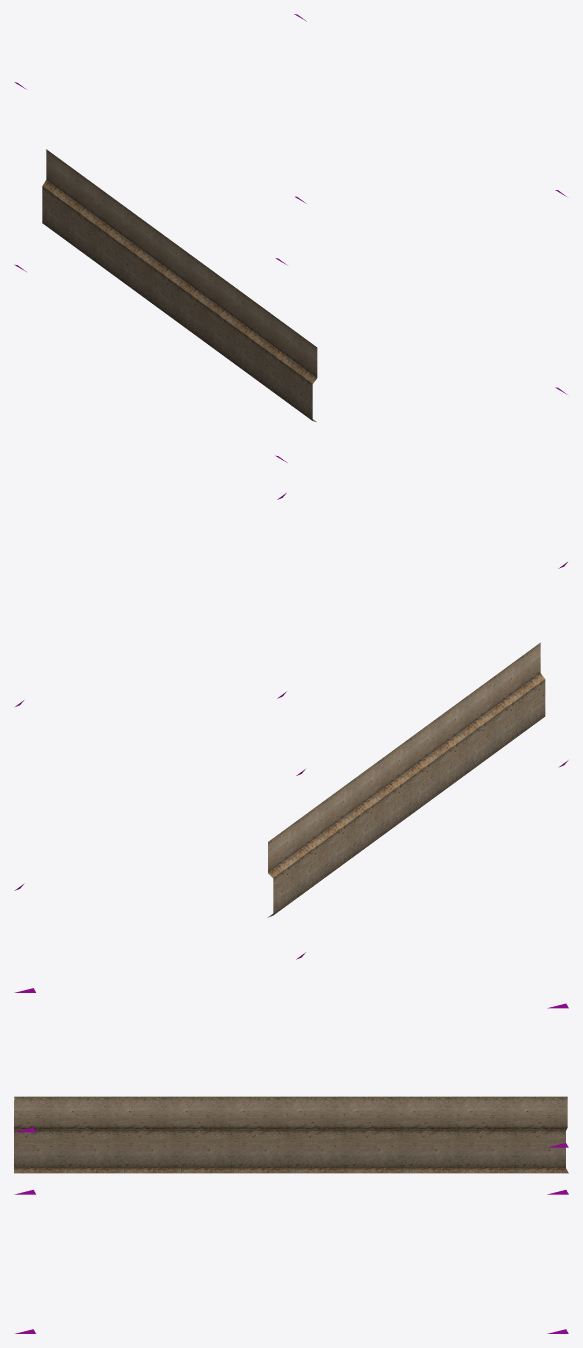
Rendered from M11_CompWallOuter_11A_1.glb.
3 views of the same model, one above another, from view 1: azimuth 30°, elevation 25°; view 2: azimuth 150°, elevation 25°; view 3: azimuth 270°, elevation 25° (orthographic). The views are drawn at different scales.
Visible parts, largest first — view 1: M11_COMPWALLOUTER_11A_1; view 2: M11_COMPWALLOUTER_11A_1; view 3: M11_COMPWALLOUTER_11A_1.
Part boxes in pixels (box(x1,y1,x2,y2)): M11_COMPWALLOUTER_11A_1: box(14, 14, 567, 462); M11_COMPWALLOUTER_11A_1: box(14, 493, 568, 959); M11_COMPWALLOUTER_11A_1: box(14, 988, 568, 1333).
Size of the model in its own units: 30.23 by 20.3 by 50.01.
3 materials, 2 textured.
